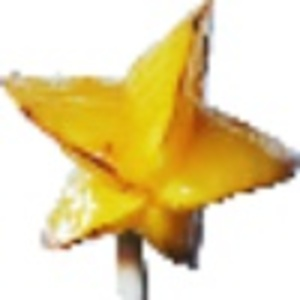carambola: (1, 1, 300, 290)
